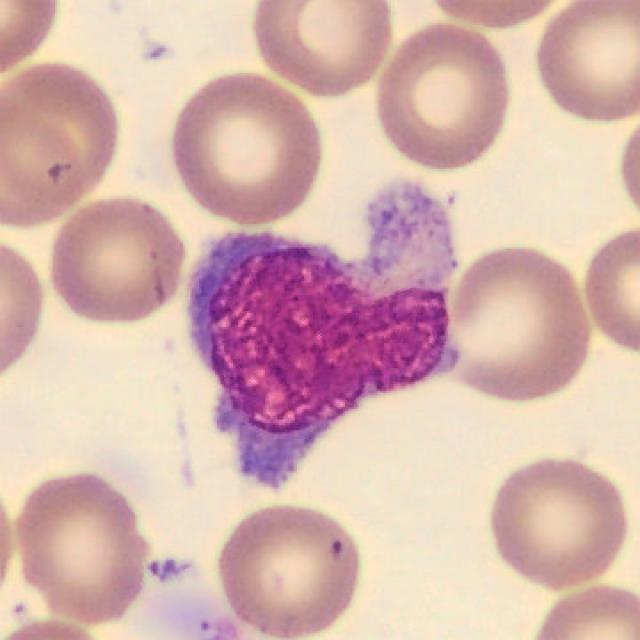Monocito: (192, 185, 455, 484)
